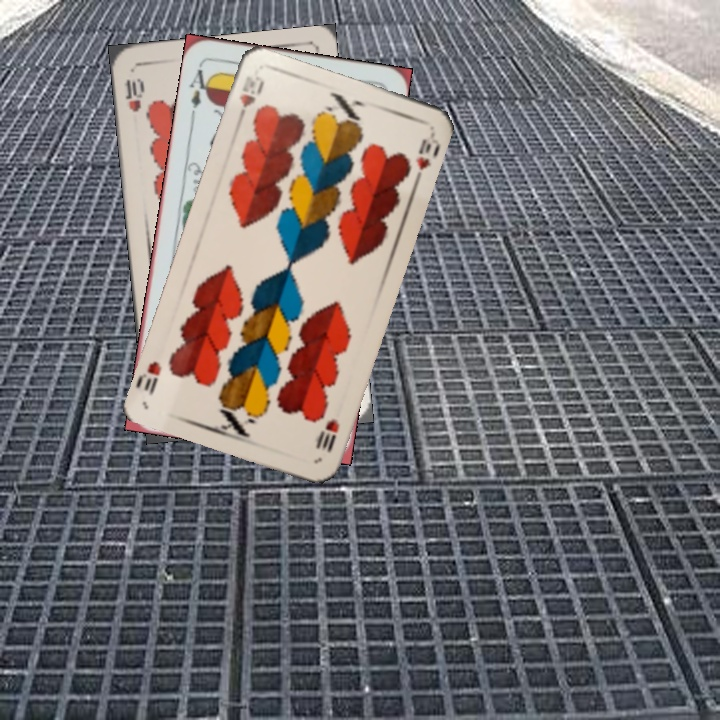EA: (185, 61, 214, 120)
H10: (233, 72, 267, 127), (311, 414, 342, 455), (121, 74, 146, 114)
